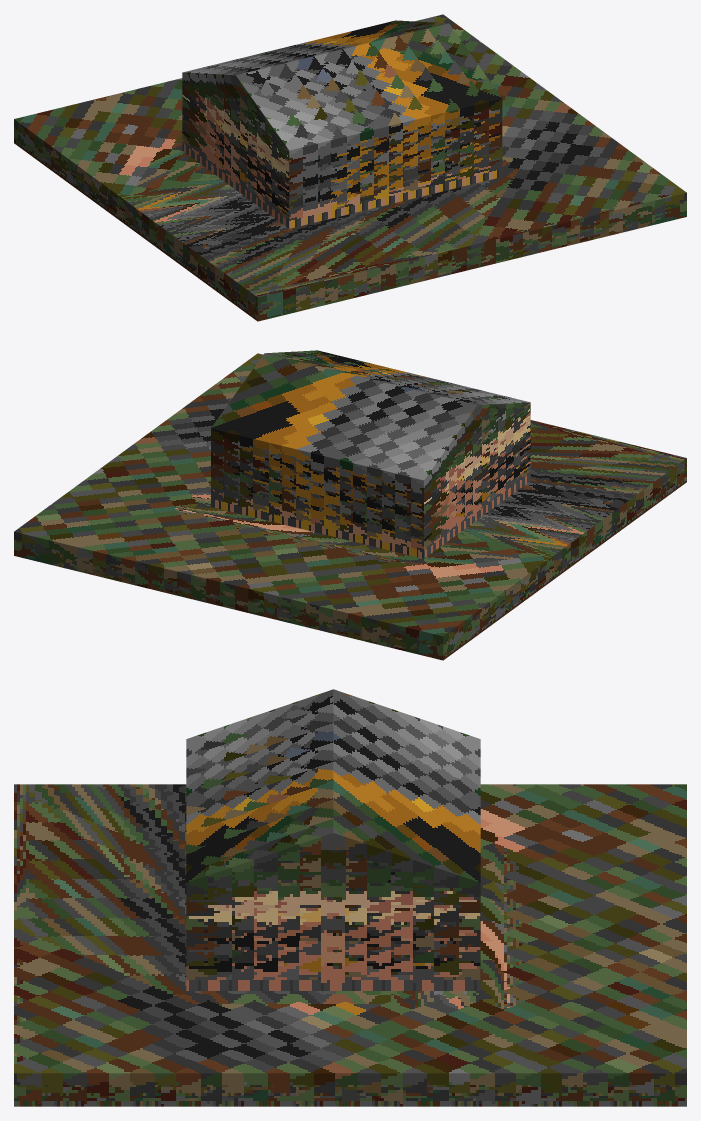
The model's file is dum_51_domy_0.glb.
3 views of the same model, one above another, from view 1: azimuth 30°, elevation 25°; view 2: azimuth 150°, elevation 25°; view 3: azimuth 270°, elevation 25° (orthographic). The views are drawn at different scales.
Size of the model in its own units: 13.97 by 4.31 by 13.74.
Materials: 1 (1 with a texture image).
